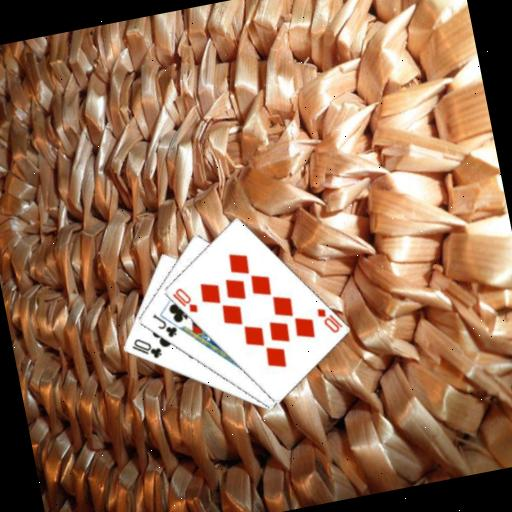10C: (127, 332, 164, 365)
10D: (167, 282, 200, 319), (312, 302, 345, 338)
JC: (148, 308, 180, 343)
